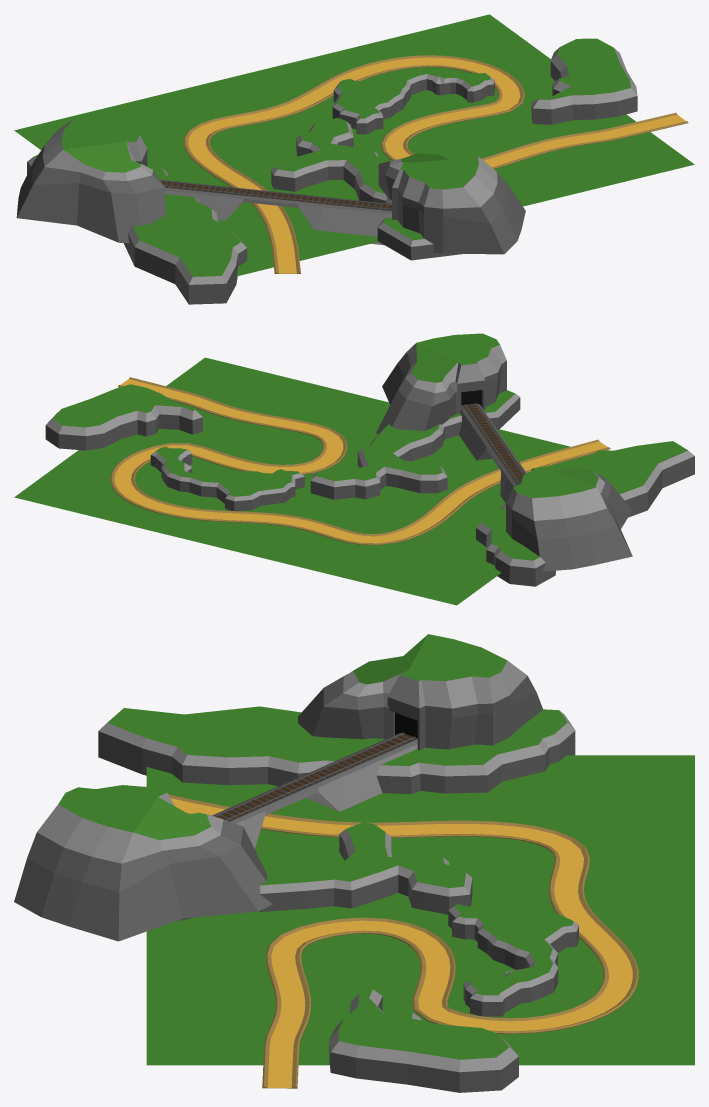
The model's file is new_map_2.fbx.
3 renders of one model, top to bottom at view 1: azimuth 30°, elevation 25°; view 2: azimuth 150°, elevation 25°; view 3: azimuth 270°, elevation 25°, orthographic. The views are drawn at different scales.
Visible parts, largest first — view 1: Plane, Cube, Vert.001, Vert.007, Vert.006, Vert.003, Vert.005, Vert.002, Cube.009, Cube.001; view 2: Plane, Cube, Vert.001, Vert.007, Vert.006, Vert.003, Vert.005, Vert.002, Cube.009, Cube.001; view 3: Plane, Vert.007, Cube, Vert.006, Vert.001, Vert.005, Vert.003, Vert.002, Cube.009, Cube.001.
Part boxes in pixels (box(x1,y1,x2,y2)): Plane: box(14, 14, 694, 276); Cube: box(183, 55, 688, 273); Vert.001: box(16, 115, 165, 243); Vert.007: box(378, 153, 525, 254); Vert.006: box(27, 155, 247, 304); Vert.003: box(271, 117, 463, 260); Vert.005: box(531, 38, 637, 124); Vert.002: box(332, 67, 494, 134); Cube.009: box(160, 179, 391, 245); Cube.001: box(160, 180, 391, 210); Plane: box(14, 357, 590, 605); Cube: box(110, 377, 610, 545); Vert.001: box(506, 466, 632, 571); Vert.007: box(376, 333, 506, 434); Vert.006: box(476, 441, 694, 586); Vert.003: box(310, 390, 520, 499); Vert.005: box(45, 384, 202, 450); Vert.002: box(150, 447, 304, 511); Cube.009: box(459, 403, 526, 502); Cube.001: box(464, 403, 523, 483); Plane: box(146, 755, 694, 1065); Vert.007: box(14, 785, 272, 941); Cube: box(125, 785, 638, 1088); Vert.006: box(98, 706, 575, 793); Vert.001: box(298, 634, 542, 750); Vert.005: box(329, 988, 518, 1092); Vert.003: box(176, 822, 472, 920); Vert.002: box(448, 901, 578, 1016); Cube.009: box(212, 732, 417, 848); Cube.001: box(214, 732, 416, 820).
Bounding box in the file's own units: 4362 × 499 × 3153.
